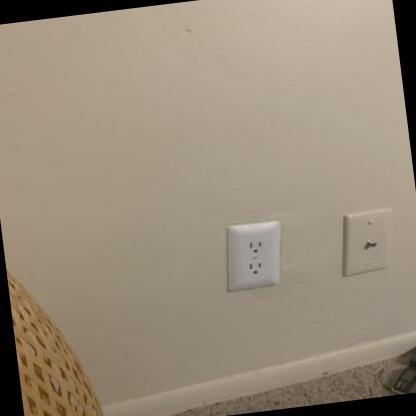OUTLET: (222, 219, 284, 290)
